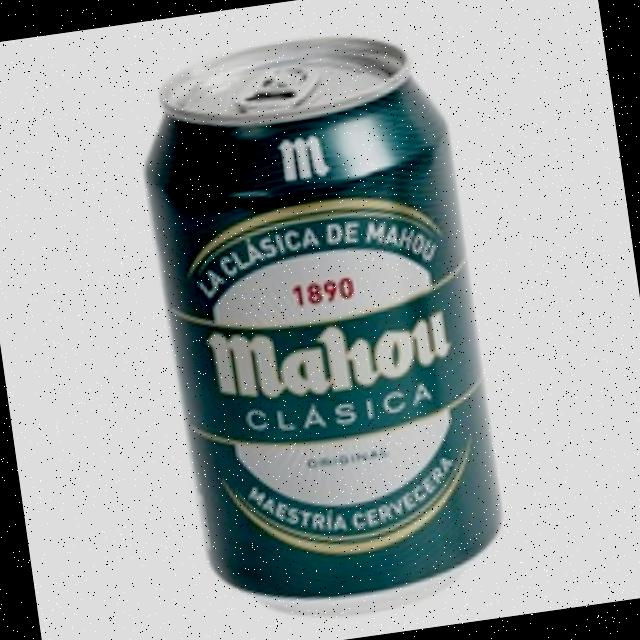Metal: (128, 19, 516, 638)
